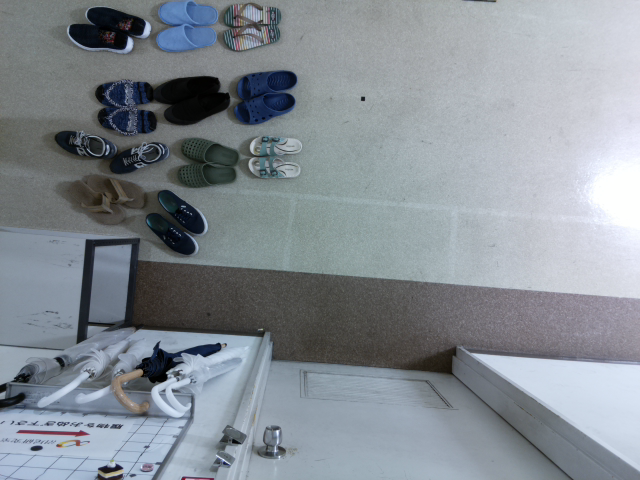Copy of Copy of Copy of Copy of Copy of Copy of Copy of sandal: (97, 107, 156, 135)
Copy of Copy of Copy of Copy of Copy of Copy of Copy of shoes: (163, 91, 230, 125)
Copy of Copy of Copy of Copy of Copy of Copy of sandal: (94, 79, 154, 107)
Copy of Copy of Copy of Copy of Copy of Copy of shoes: (152, 76, 220, 104)
Copy of Copy of Copy of Copy of Copy of sandal: (69, 179, 125, 226)
Copy of Copy of Copy of Copy of Copy of shoes: (145, 212, 199, 256)
Copy of Copy of Copy of Copy of Copy of slipper: (156, 23, 217, 51)
Copy of Copy of Copy of Copy of sandal: (86, 174, 146, 208)
Copy of Copy of Copy of Copy of shoes: (157, 189, 209, 235)
Copy of Copy of Copy of Copy of slipper: (157, 1, 218, 25)
Copy of Copy of Copy of sandal: (247, 157, 301, 179)
Copy of Copy of Copy of shoes: (109, 141, 169, 175)
Copy of Copy of Copy of slipper: (177, 162, 237, 187)
Copy of Copy of sandal: (249, 134, 302, 156)
Copy of Copy of shoes: (54, 130, 118, 160)
Copy of Copy of slipper: (181, 137, 239, 165)
Copy of sandal: (222, 22, 281, 51)
Copy of shoes: (66, 23, 133, 53)
Copy of slipper: (233, 92, 296, 125)
sandal: (223, 1, 282, 26)
shoes: (84, 5, 152, 39)
slipper: (235, 70, 297, 101)
